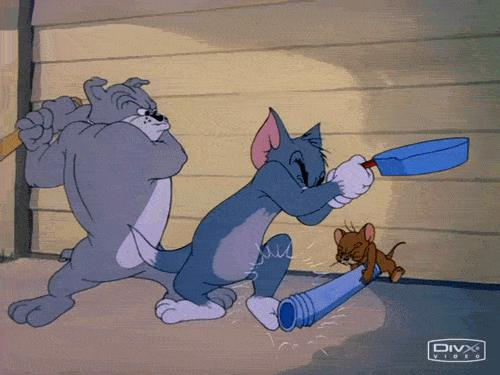tom: (124, 106, 376, 333)
